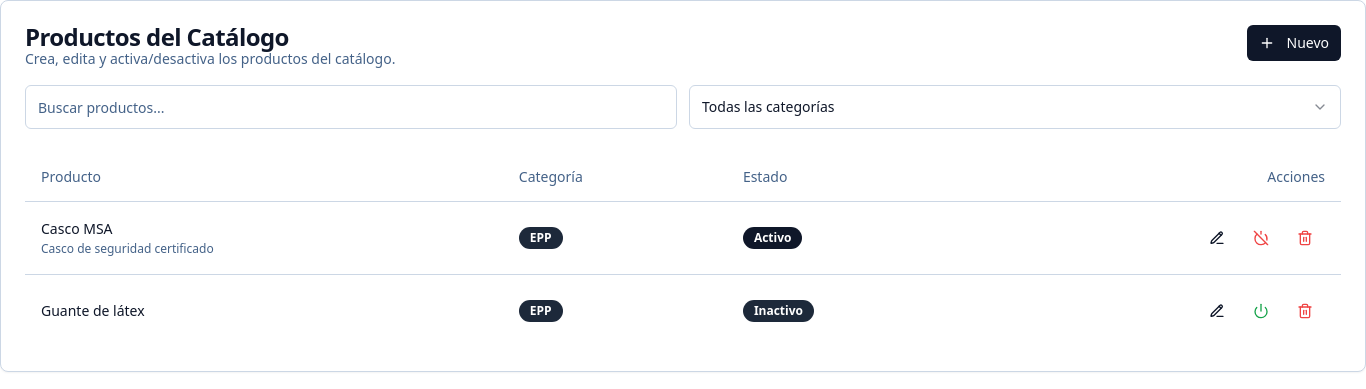
Test case: ProductManager — persistence (HU-2.3) › shows empty state when no products match filter
This screenshot has width=1366, height=389.
Expected: the text "Casco MSA" is shown, [41, 218, 113, 238]
Type "xyznotexist" into the field with placeholder "Buscar productos...". click: (351, 107)
box: [25, 85, 677, 129]
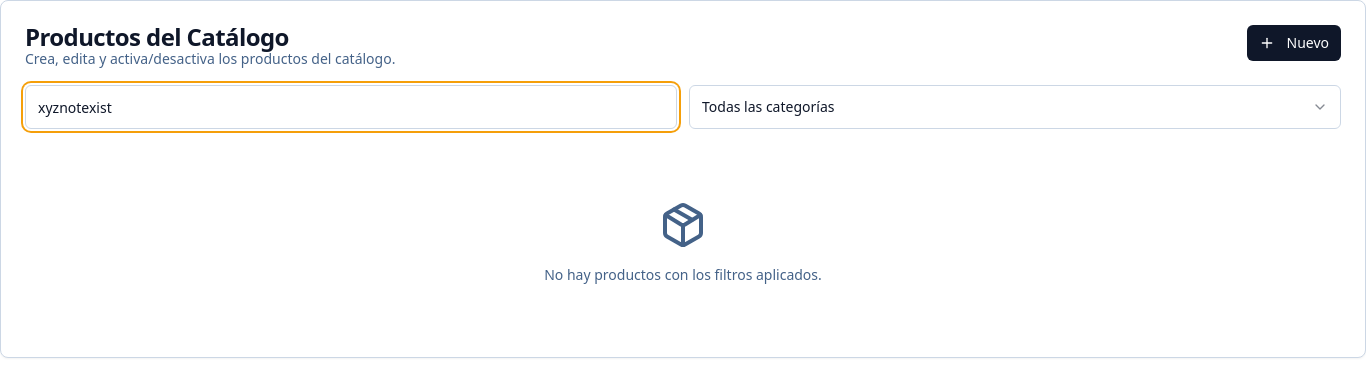
Now the text "No hay productos con los filtros aplicados." is shown, box [544, 265, 822, 285]
